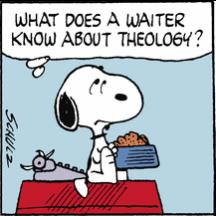snoopy: (54, 62, 144, 198)
